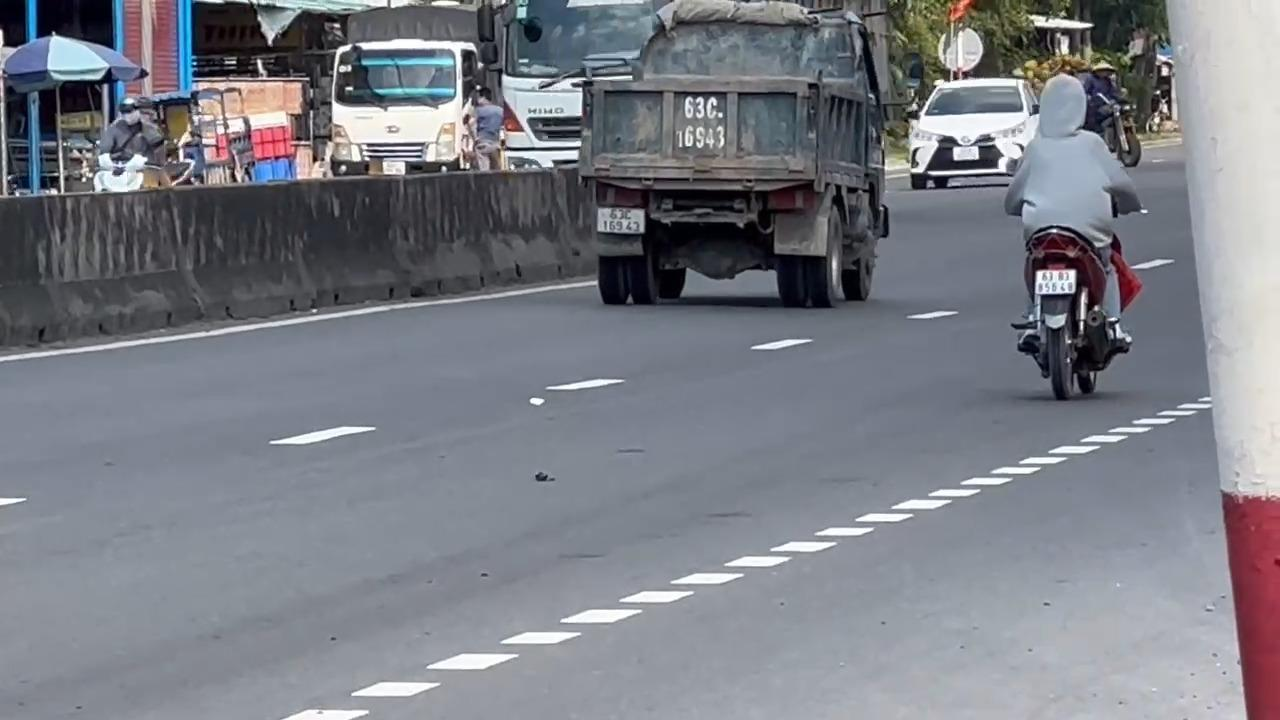bien_so: (595, 205, 646, 235), (1033, 267, 1077, 295)
